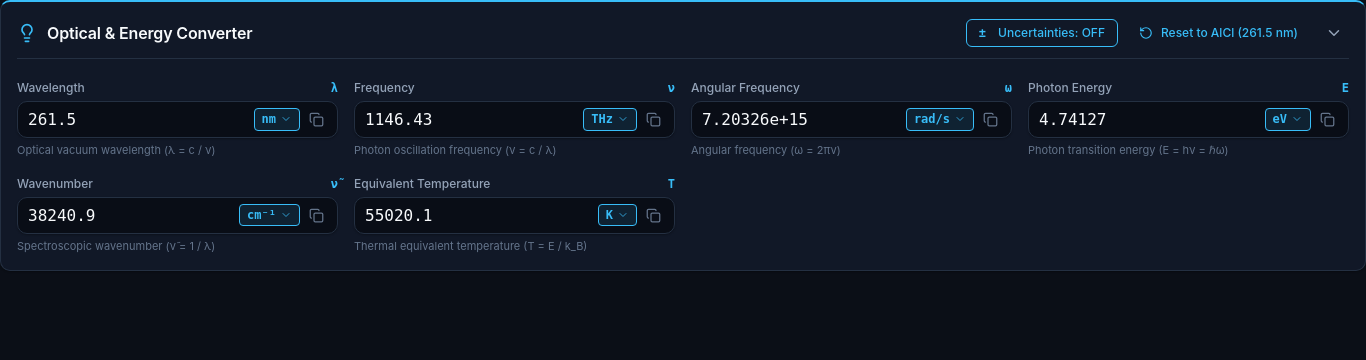
Scenario: OpticalConverter Uncertainty Propagation Toggle & Conversion › resets uncertainties on Reset button click
The image size is (1366, 360).
Click the button "± Uncertainties: OFF" at coordinates (1042, 33), box [966,19,1118,47]
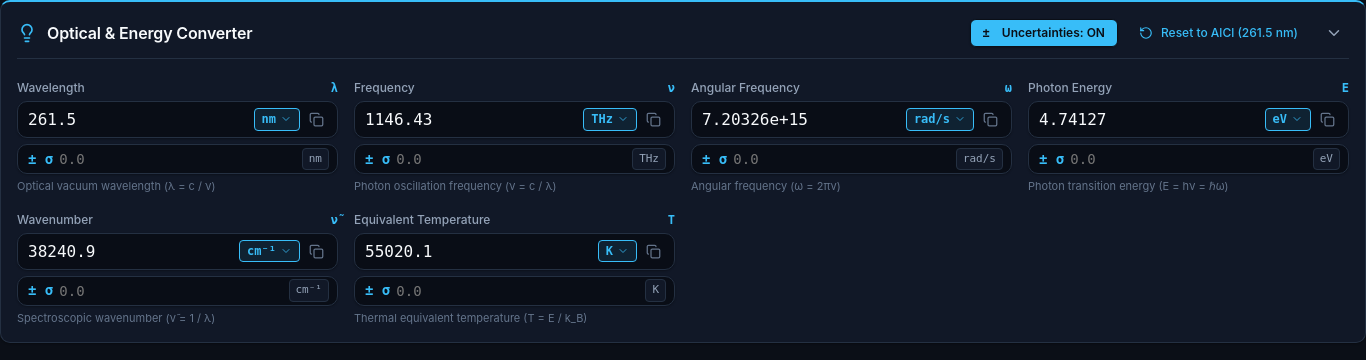
Type "0.02" into the field named "Wavelength uncertainty in nm" at coordinates (181, 159), box [59,147,302,171]
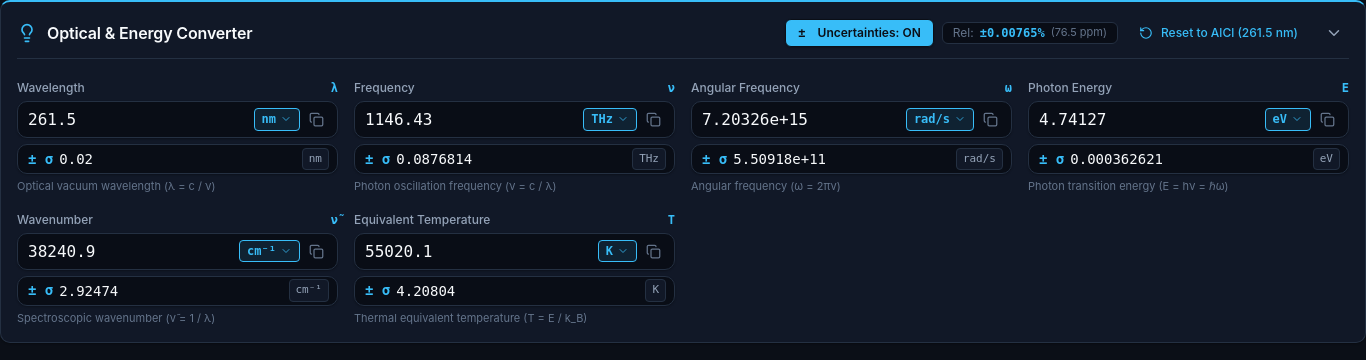
# Click Reset
Click the button "Reset to AlCl (261.5 nm)" at coordinates (1218, 33), box [1126,19,1311,47]
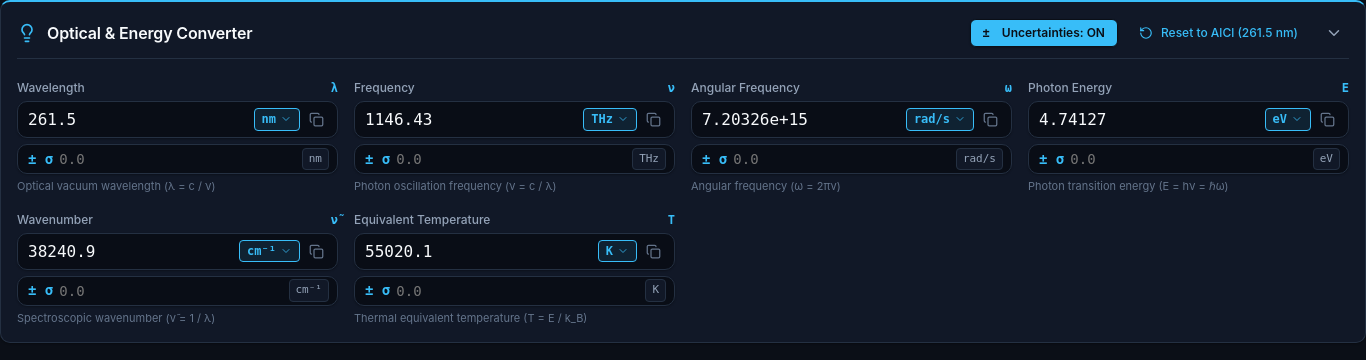
Result: the field named "Wavelength uncertainty in nm" is empty at [59,147,302,171]
Result: the text "Rel:" is gone
